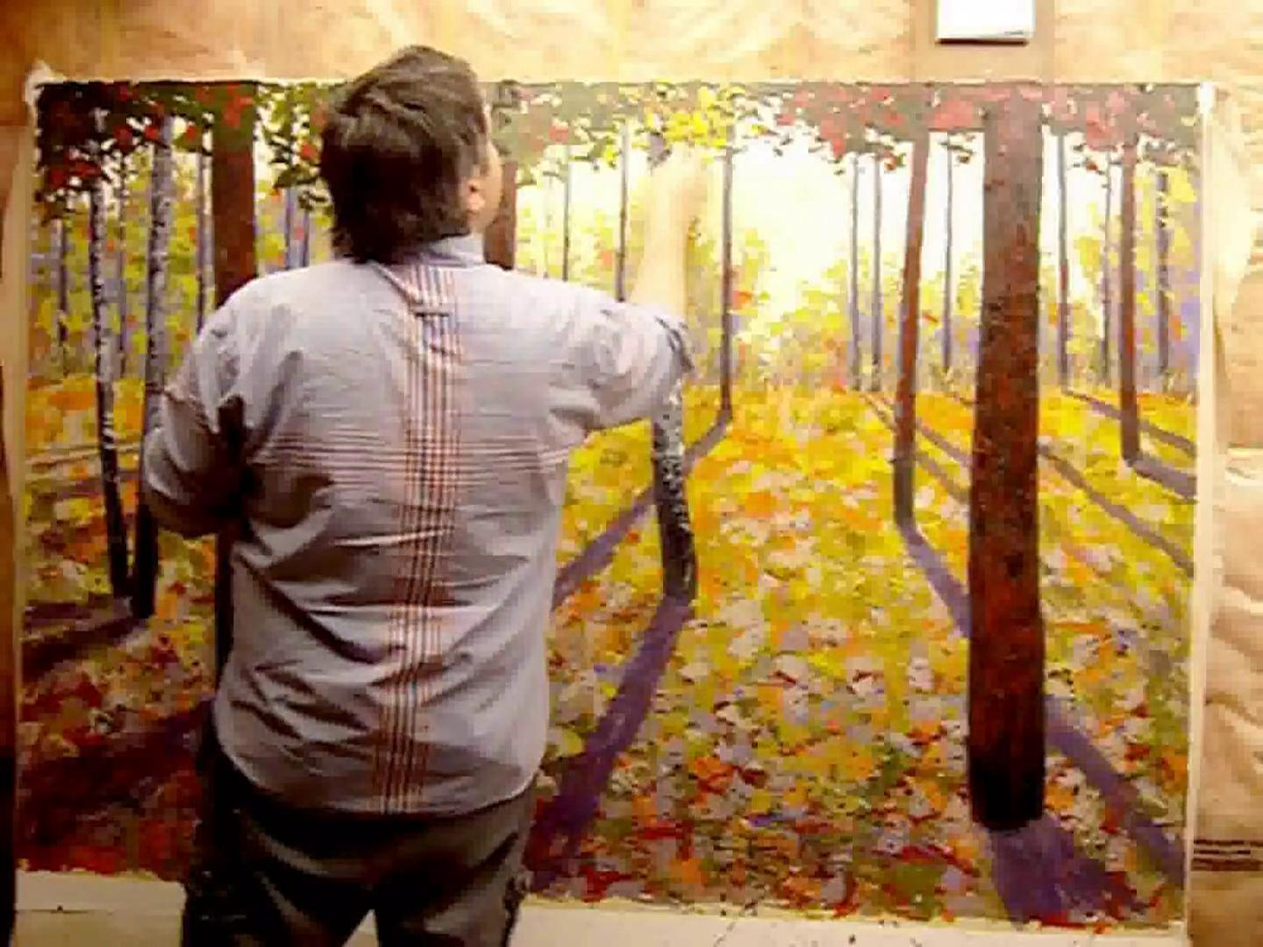victim: (139, 36, 725, 947)
